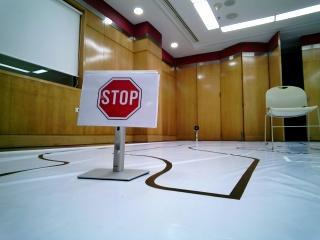stop: (82, 71, 156, 127)
